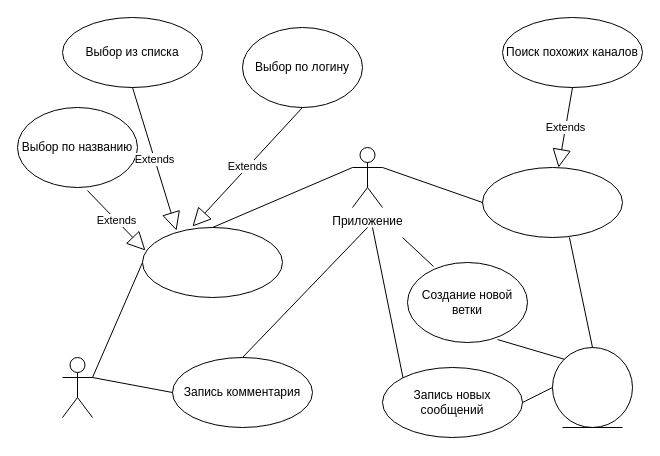
Image size: 660x456. Some labels were removed from this diagram. Here are the shapes that lost their labels. From the top down, the centre of each, then its label:
At (x=552, y=202): "Поиск канала".
At (x=212, y=262): "Выбор канала".
At (x=77, y=387): "Пользователь".
At (x=592, y=387): "БД".
